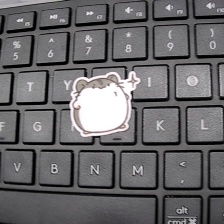mouse: (68, 72, 145, 138)
